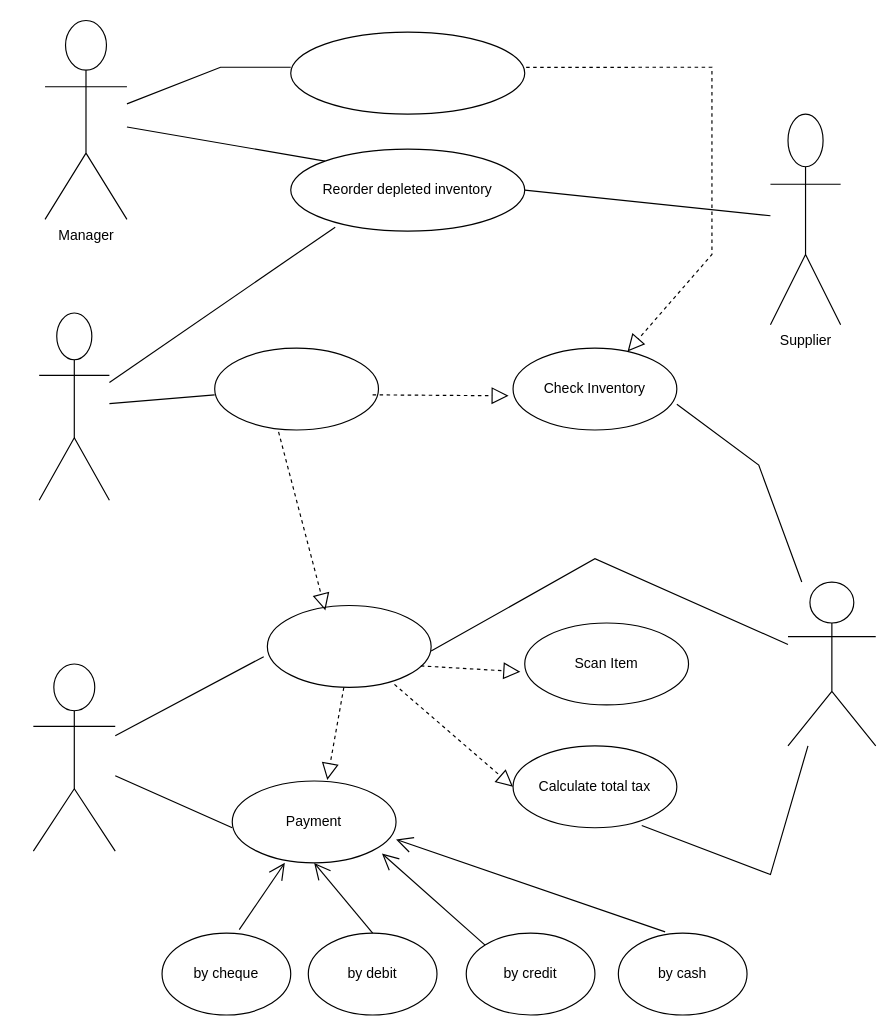
The diagram is 896 pixels wide and 1035 high, and some of its shapes have lost their labels. The shapes that lost their labels are listed below. From the top down, each one's box as (x1, y1, x2, y2) in pixels, then its label:
(290, 31, 525, 114): generates sale report
(38, 312, 109, 500): Inventory System
(214, 347, 378, 430): Update Inventory
(266, 604, 431, 687): Check out
(787, 581, 876, 746): Cashier
(32, 663, 115, 851): Customer
